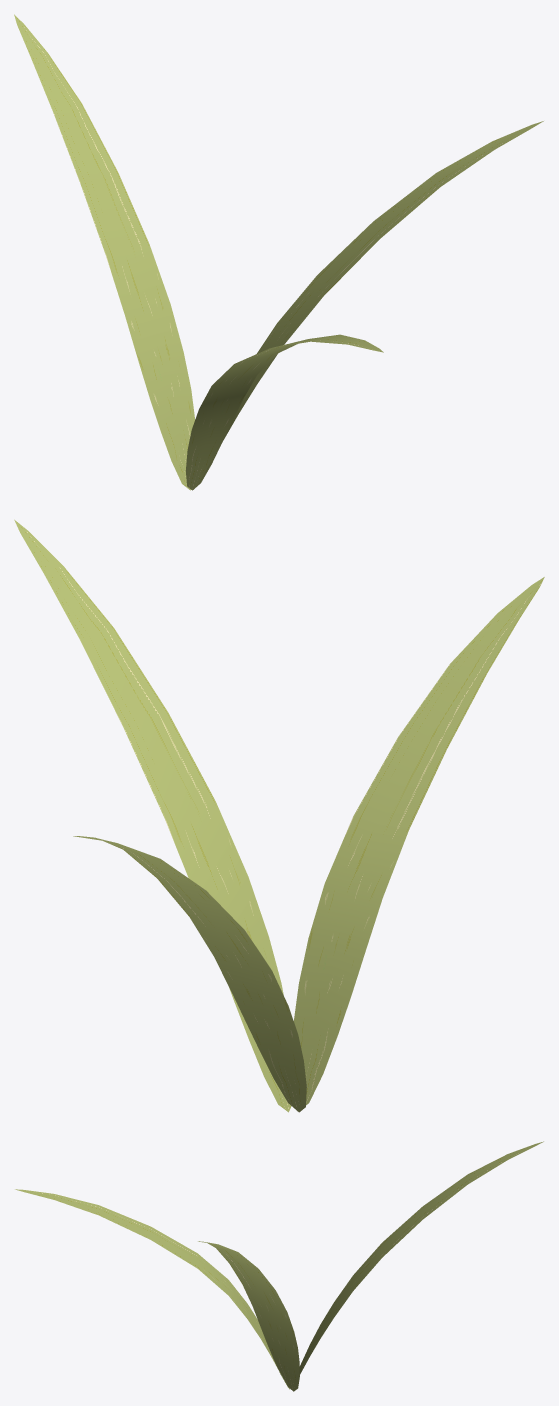
Rendered from grandes herbe .fbx.
The picture shows the model from 3 angles, top to bottom: view 1: azimuth 30°, elevation 25°; view 2: azimuth 150°, elevation 25°; view 3: azimuth 270°, elevation 25°; orthographic projection. The views are drawn at different scales.
Visible parts, largest first — view 1: Grandes herbes; view 2: Grandes herbes; view 3: Grandes herbes.
Part boxes in pixels (box(x1,y1,x2,y2)): Grandes herbes: box(14, 14, 543, 490); Grandes herbes: box(14, 519, 544, 1112); Grandes herbes: box(15, 1141, 543, 1391).
Bounding box in the file's own units: 8.72 × 9.3 × 17.97.
1 material, 1 textured.
